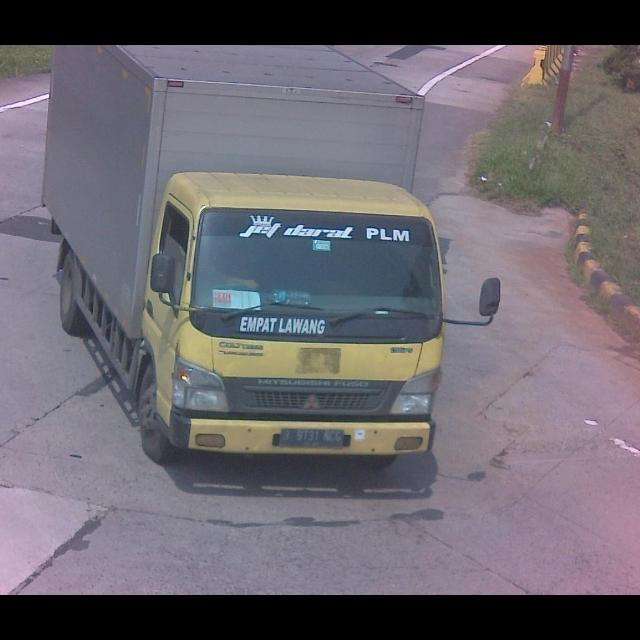plate: (279, 426, 349, 452)
